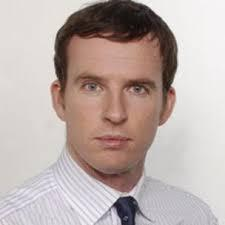normalEye: (70, 66, 155, 109)
normalMouth: (88, 130, 139, 151)
